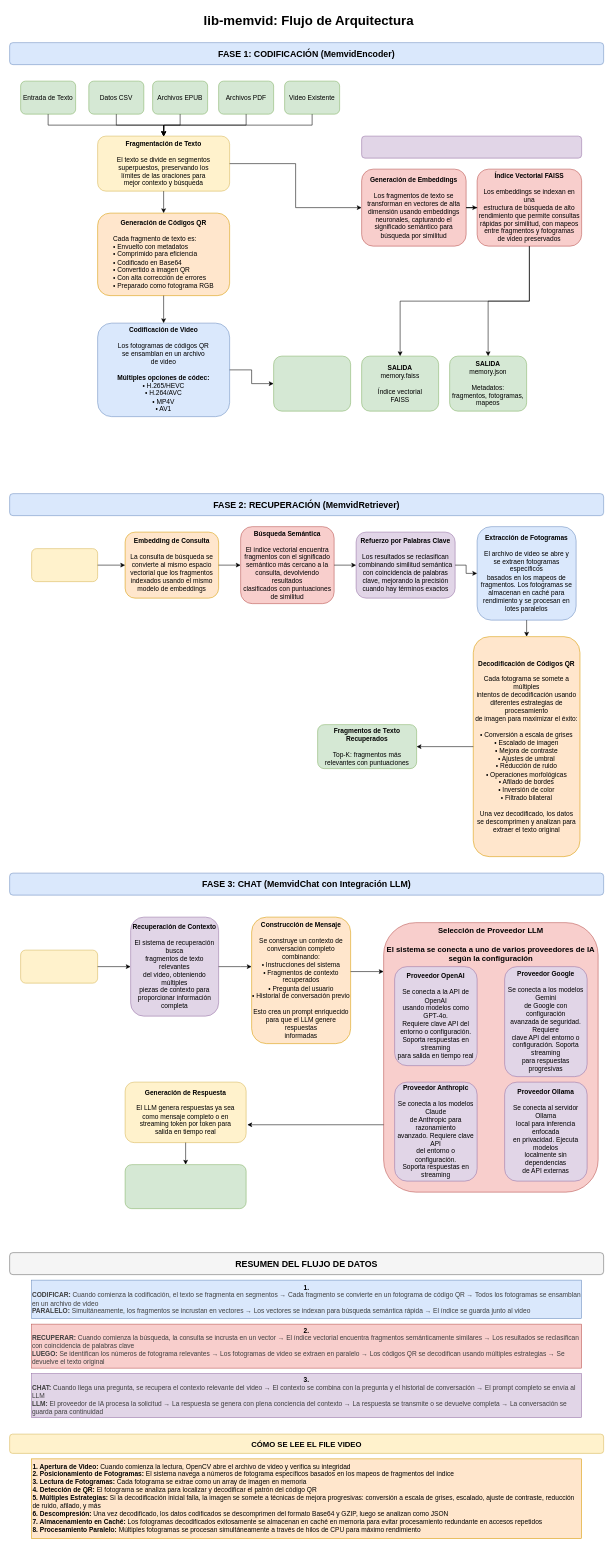
This 613x1548 diagram has some shape labels left out. The centre of each missing label's shape, as x and y in pixels:
Consulta del Usuario "Buscar texto": (64,565)
Pregunta del Usuario "Preguntar sobre contenido": (59,966)
PROCESAMIENTO PARALELO: (471,147)
Respuesta de IA Respuesta contextual basada en el contenido del video recuperado: (185,1186)
SALIDA memory.mp4/.mkv/.avi Fotogramas de Códigos QR codificados como video: (312,383)
